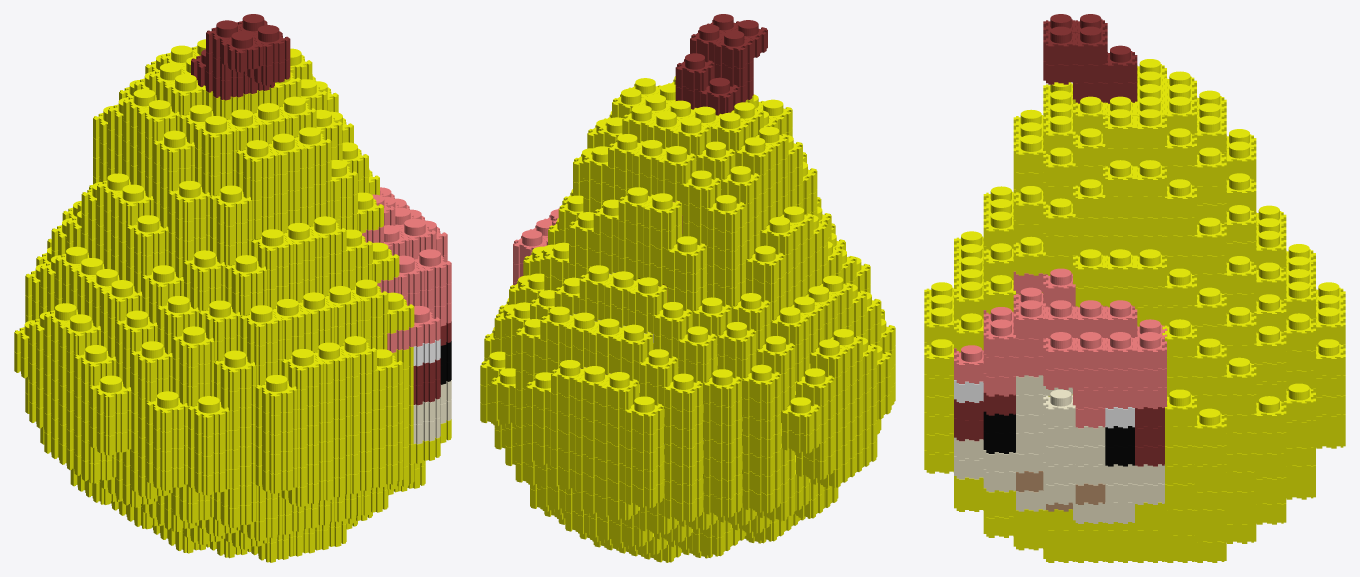
Rendered from Tetopear.glb.
3 renders of one model, left to right at view 1: azimuth 30°, elevation 25°; view 2: azimuth 150°, elevation 25°; view 3: azimuth 270°, elevation 25°, orthographic. The views are drawn at different scales.
Bounding box in the file's own units: 9.08 × 12.45 × 9.77.
